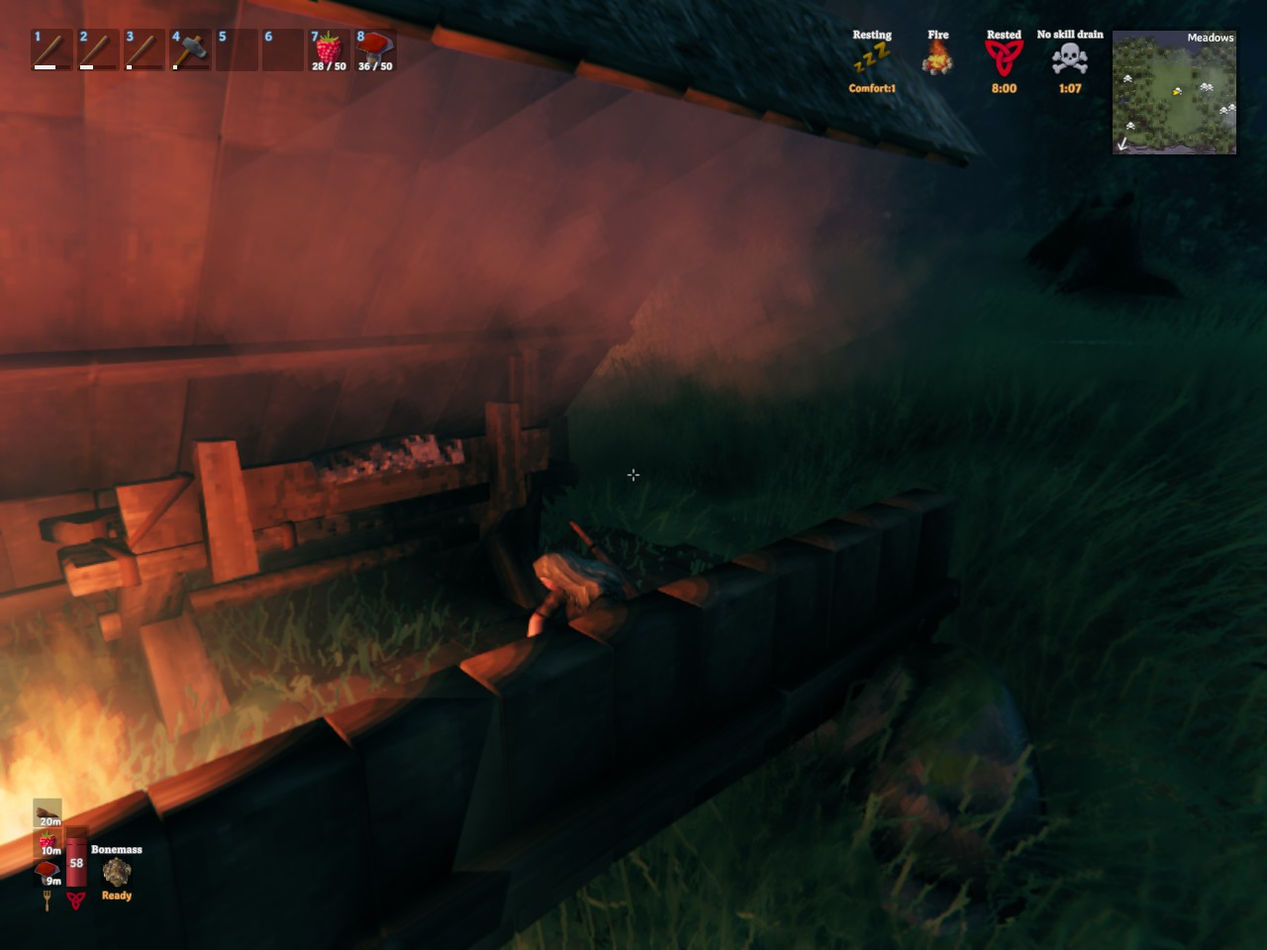Status Indicator: (841, 24, 1114, 108)
